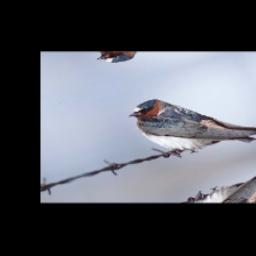Swallow: (125, 74, 256, 172)
